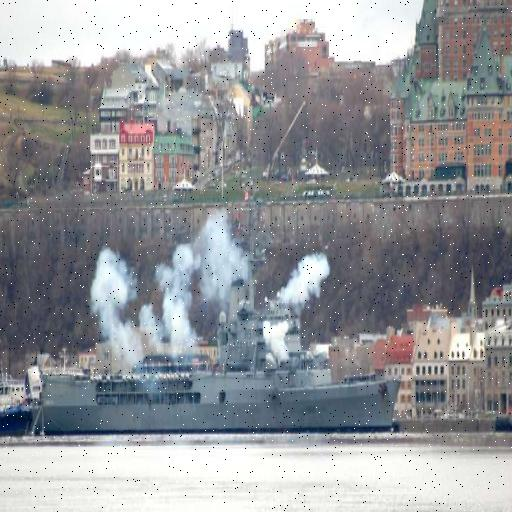Portanaves: (17, 273, 411, 439)
